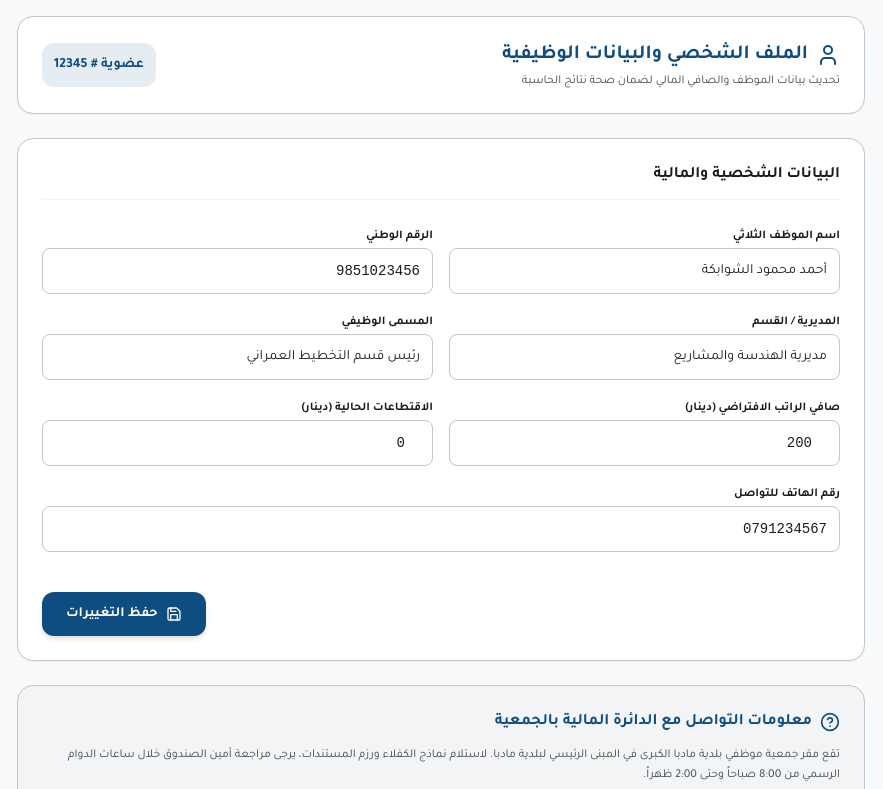
Scenario: ProfileSettings › submits the edited profile and shows a success banner
Replace the text in the field labelled "اسم الموظف الثلاثي" with "عمر خالد العبدالله" at (644, 271), box [449, 248, 840, 294]
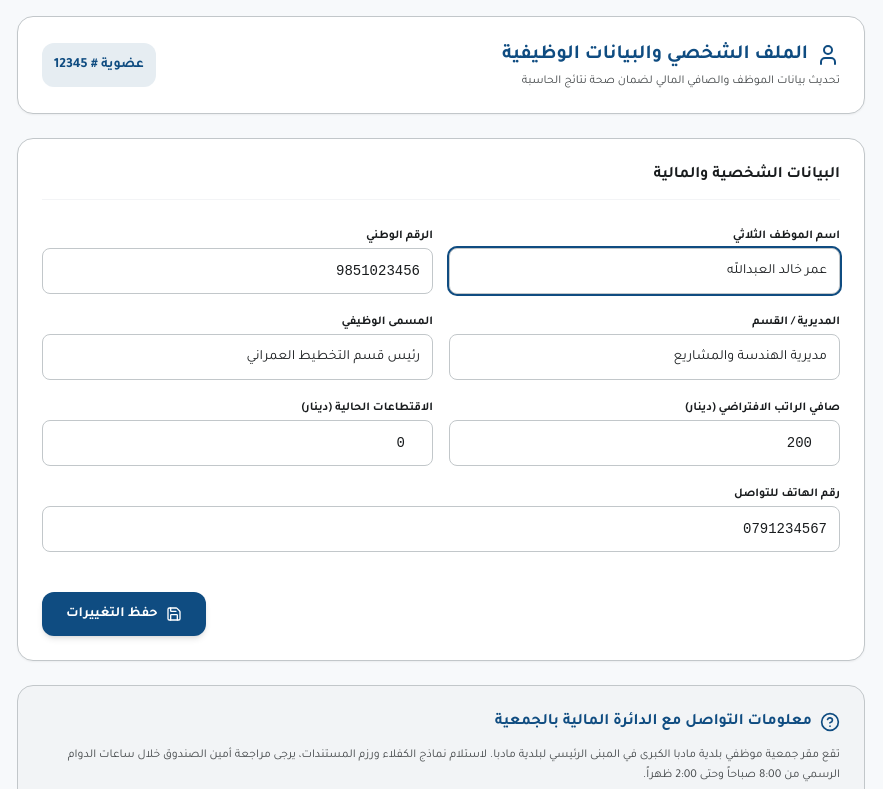
Click the button "حفظ التغييرات" at (124, 614), box [42, 592, 206, 636]
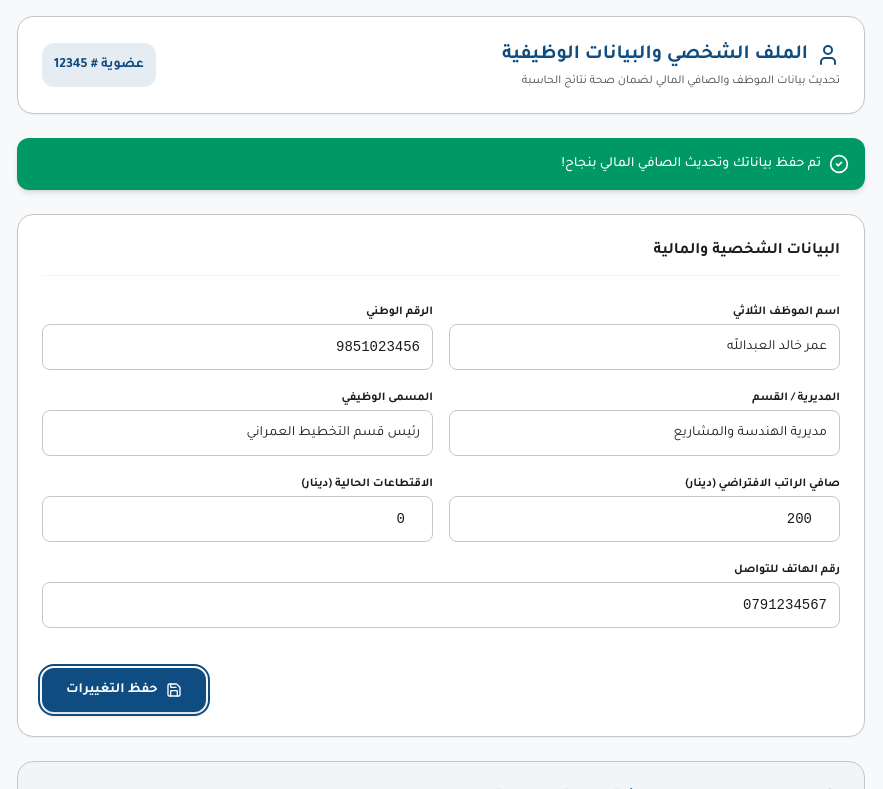
expect the text "تم حفظ بياناتك وتحديث الصافي المالي بنجاح!" is shown: met, box [562, 154, 821, 174]
expect the message shows "تم حفظ بياناتك وتحديث الصافي المالي بنجاح": met, box [562, 157, 821, 171]
